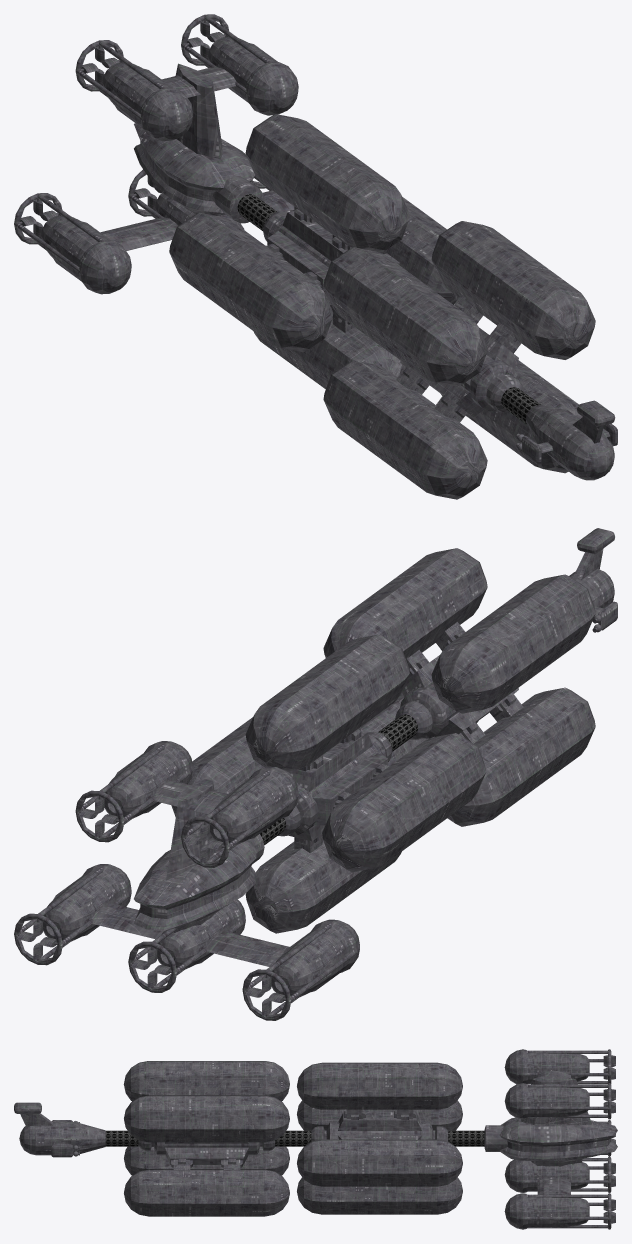
File: ox_clean.obj
3 views of the same model, one above another, from view 1: azimuth 30°, elevation 25°; view 2: azimuth 150°, elevation 25°; view 3: azimuth 270°, elevation 25° (orthographic). The views are drawn at different scales.
Parts seen in each view (by area): view 1: Mesh_ox_new; view 2: Mesh_ox_new; view 3: Mesh_ox_new.
Boxes of the visible parts, bbox=[...] form: Mesh_ox_new: bbox=[14, 14, 617, 499]; Mesh_ox_new: bbox=[14, 528, 617, 1020]; Mesh_ox_new: bbox=[14, 1049, 617, 1229].
Bounding box in the file's own units: 315 × 249 × 908.
